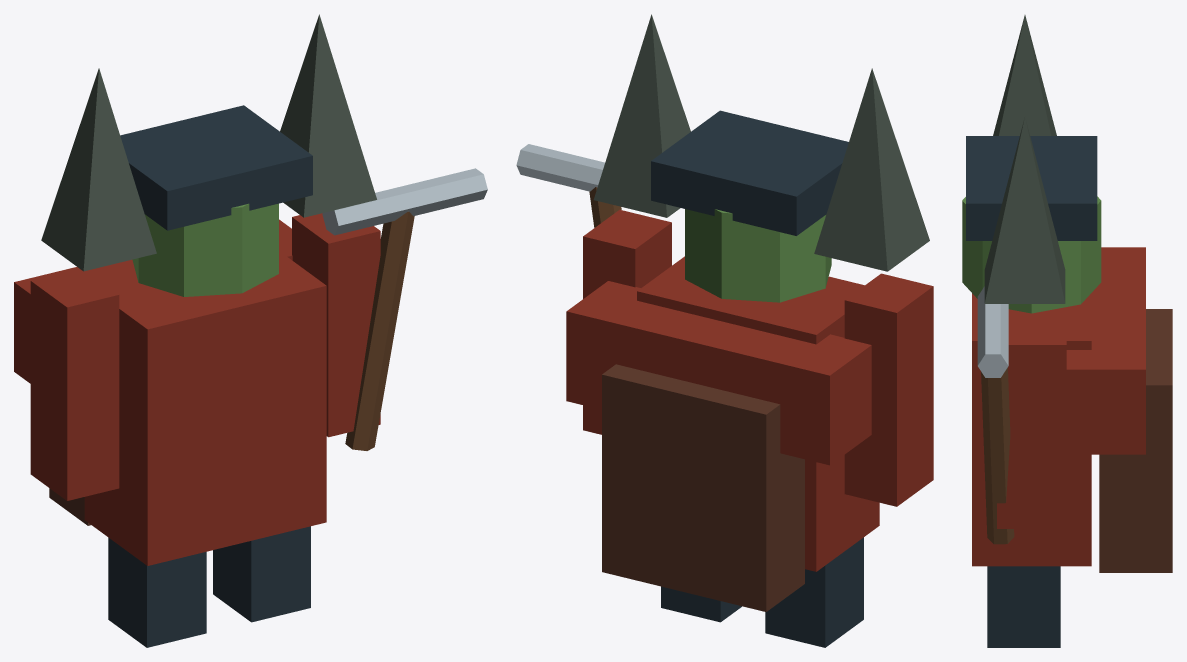
The model's file is worker.obj.
3 renders of one model, left to right at view 1: azimuth 30°, elevation 25°; view 2: azimuth 150°, elevation 25°; view 3: azimuth 270°, elevation 25°, orthographic. The views are drawn at different scales.
Visible parts, largest first — view 1: worker; view 2: worker; view 3: worker.
Part boxes in pixels (box(x1,y1,x2,y2)): worker: box(14, 14, 487, 647); worker: box(516, 14, 933, 647); worker: box(962, 15, 1172, 647).
Bounding box in the file's own units: 1.34 × 1.79 × 0.6268.
